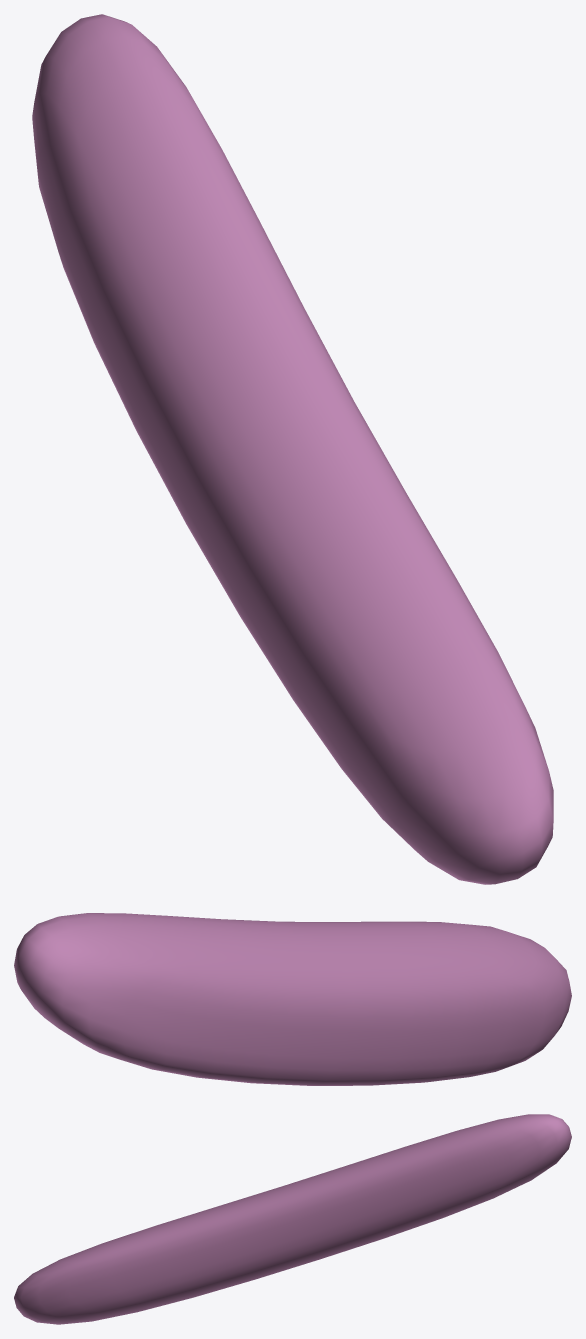
3 renders of one model, top to bottom at view 1: azimuth 30°, elevation 25°; view 2: azimuth 150°, elevation 25°; view 3: azimuth 270°, elevation 25°, orthographic. The views are drawn at different scales.
Visible parts, largest first — view 1: 右侧疑核; view 2: 右侧疑核; view 3: 右侧疑核.
Boxes of the visible parts, left/top/right/bottom form: 右侧疑核: left=32, top=14, right=553, bottom=884; 右侧疑核: left=14, top=913, right=571, bottom=1085; 右侧疑核: left=14, top=1114, right=571, bottom=1324.
Bounding box in the file's own units: 0.00215 × 0.0047 × 0.0101.
